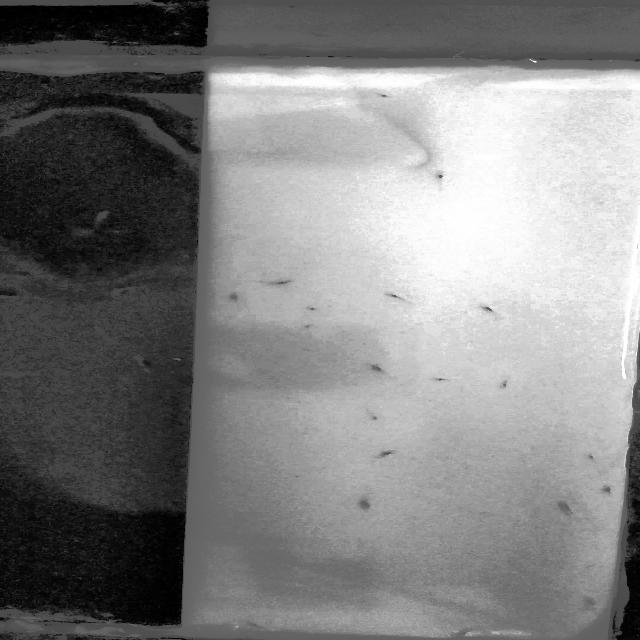shrimp: (542, 494, 576, 515), (260, 276, 302, 289), (367, 446, 401, 461), (297, 300, 328, 316), (378, 292, 415, 305), (429, 168, 455, 186), (347, 494, 370, 514), (475, 302, 503, 317), (364, 361, 392, 374), (362, 407, 382, 425), (224, 294, 251, 307), (582, 595, 601, 613), (492, 377, 516, 391), (297, 323, 324, 335), (372, 92, 400, 102), (247, 624, 270, 634), (601, 482, 616, 496), (432, 376, 456, 382), (456, 628, 478, 634), (586, 452, 599, 462)
